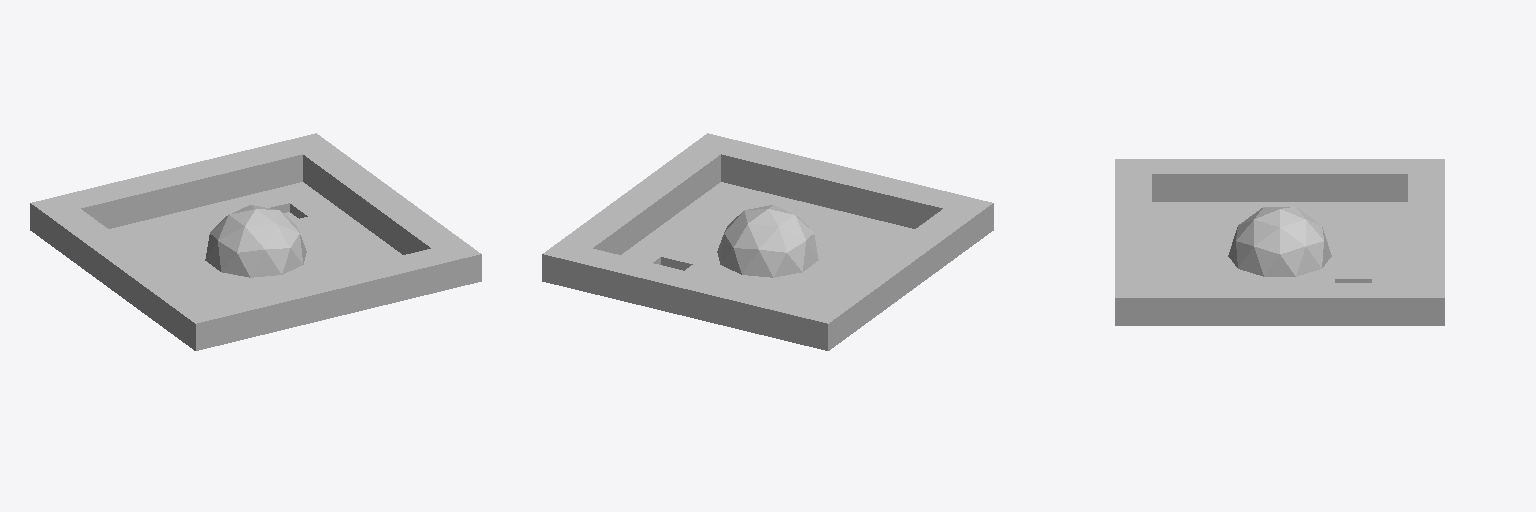
The model's file is blergh.obj.
3 renders of one model, left to right at view 1: azimuth 30°, elevation 25°; view 2: azimuth 150°, elevation 25°; view 3: azimuth 270°, elevation 25°, orthographic.
Parts seen in each view (by area): view 1: Grid; view 2: Grid; view 3: Grid.
Boxes of the visible parts, box(x1,y1,x2,y2) form: Grid: box(30, 133, 481, 350); Grid: box(542, 133, 993, 350); Grid: box(1115, 159, 1444, 325).
Size of the model in its own units: 20 by 6.29 by 20.